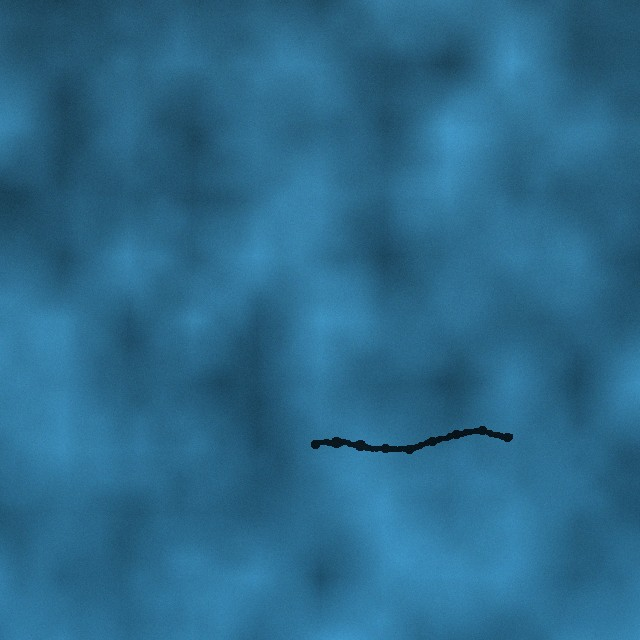crack: (310, 425, 515, 454)
